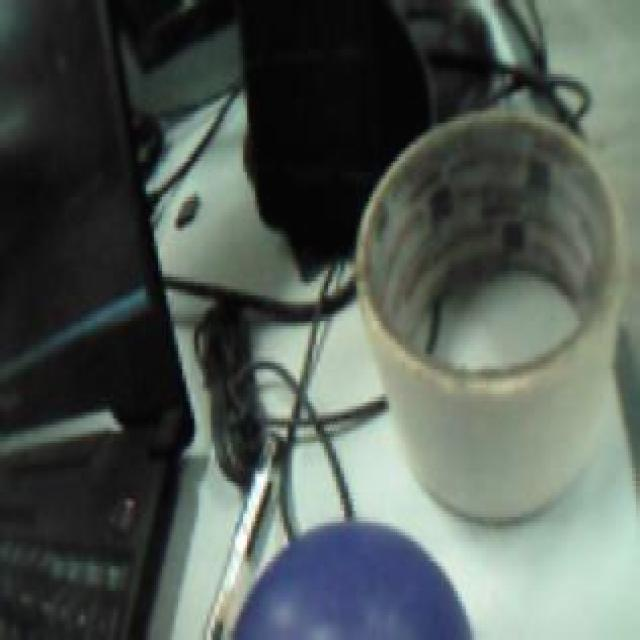BallPurple: (231, 516, 473, 640)
